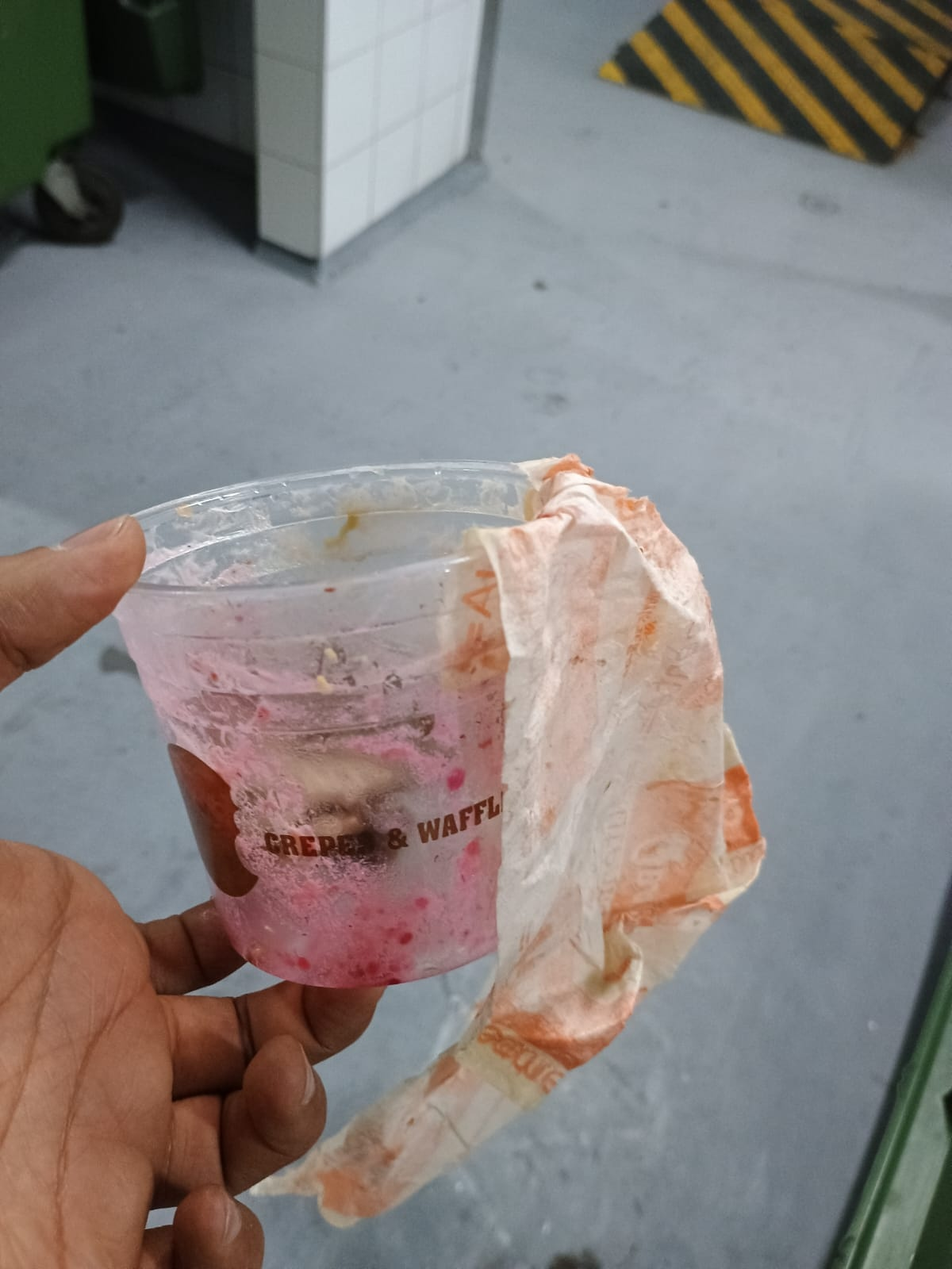Plastico: (106, 464, 515, 988)
